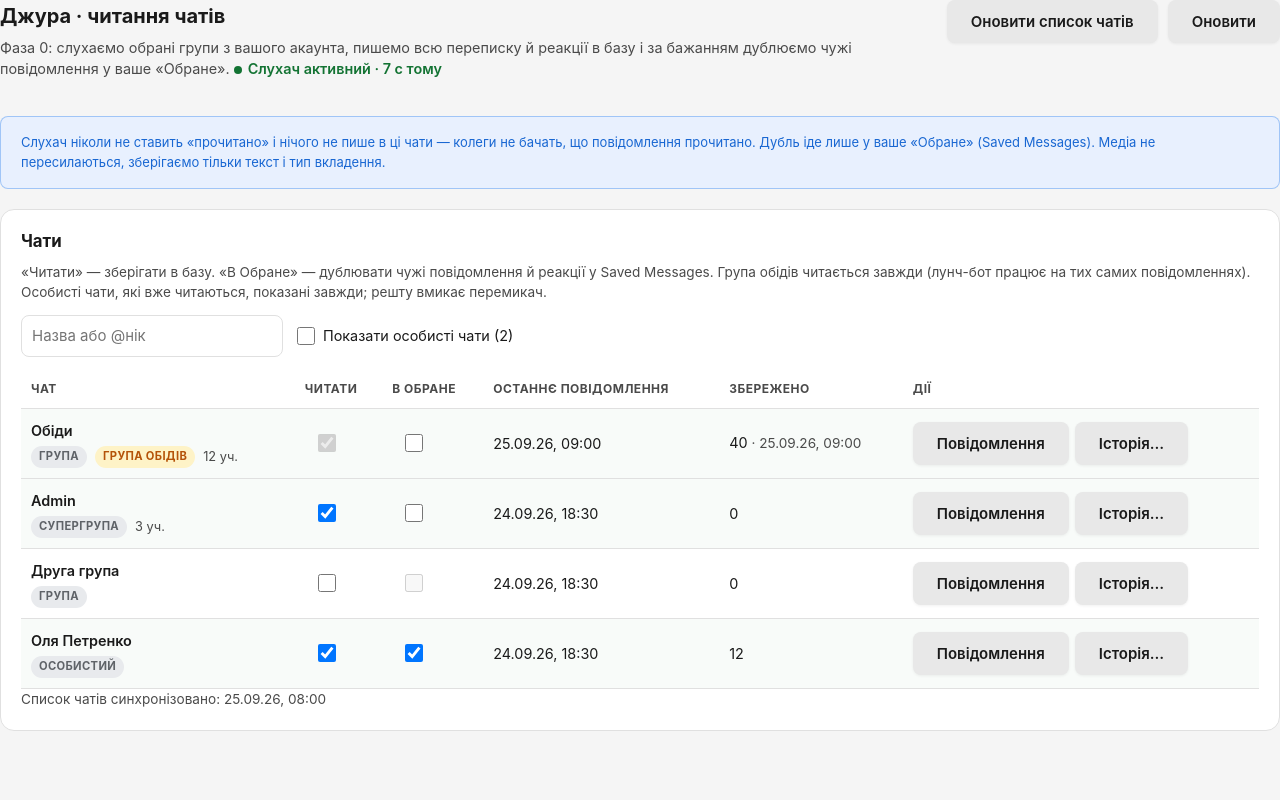
Test: DzhuraTab › довантаження: POST задачі, прогрес через polling, «Готово»
The width and height of the screenshot is (1280, 800).
Expected: the text "Admin" is shown, [31,492,76,509]
Click the button "Історія…" in the row of "Admin" at (1131, 513), box [1075,492,1188,535]
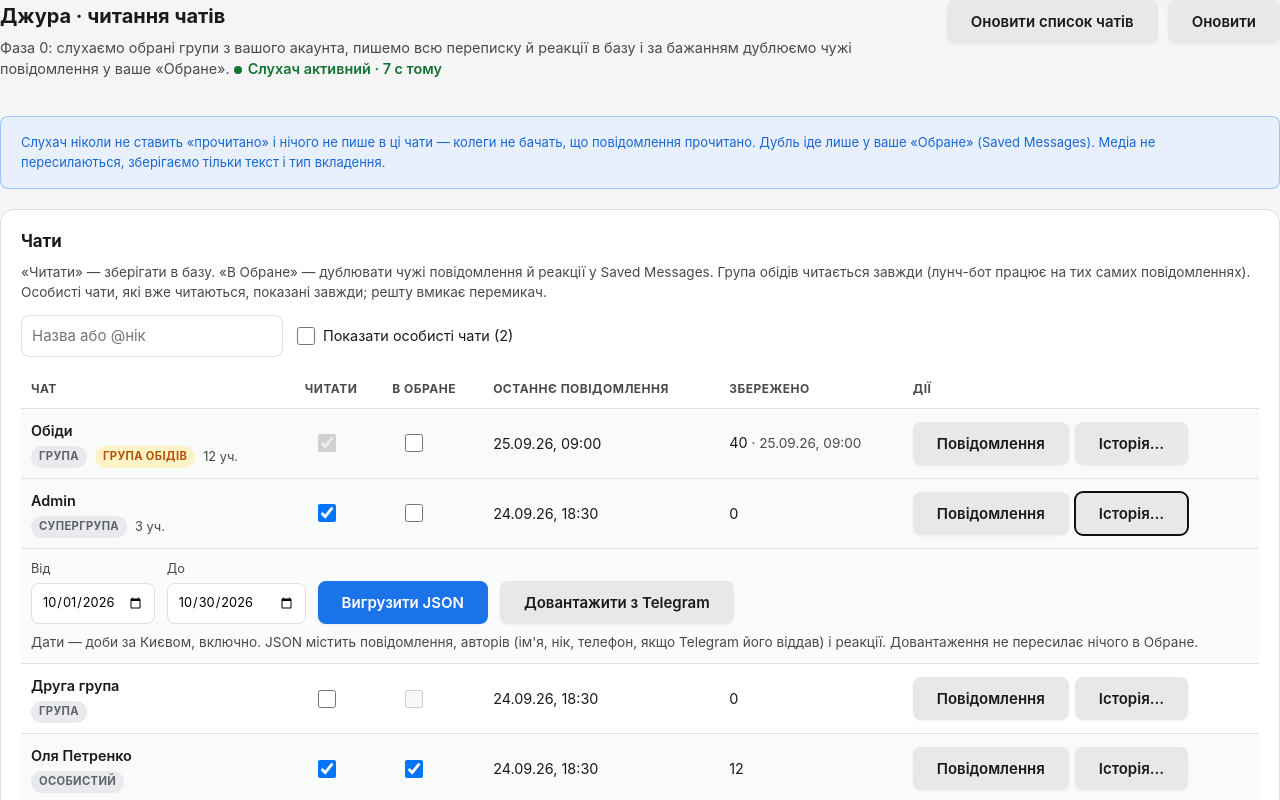
Type "2026-09-01" into the date field with id "dzhura-from-2" at (93, 603), box [31,583,155,624]
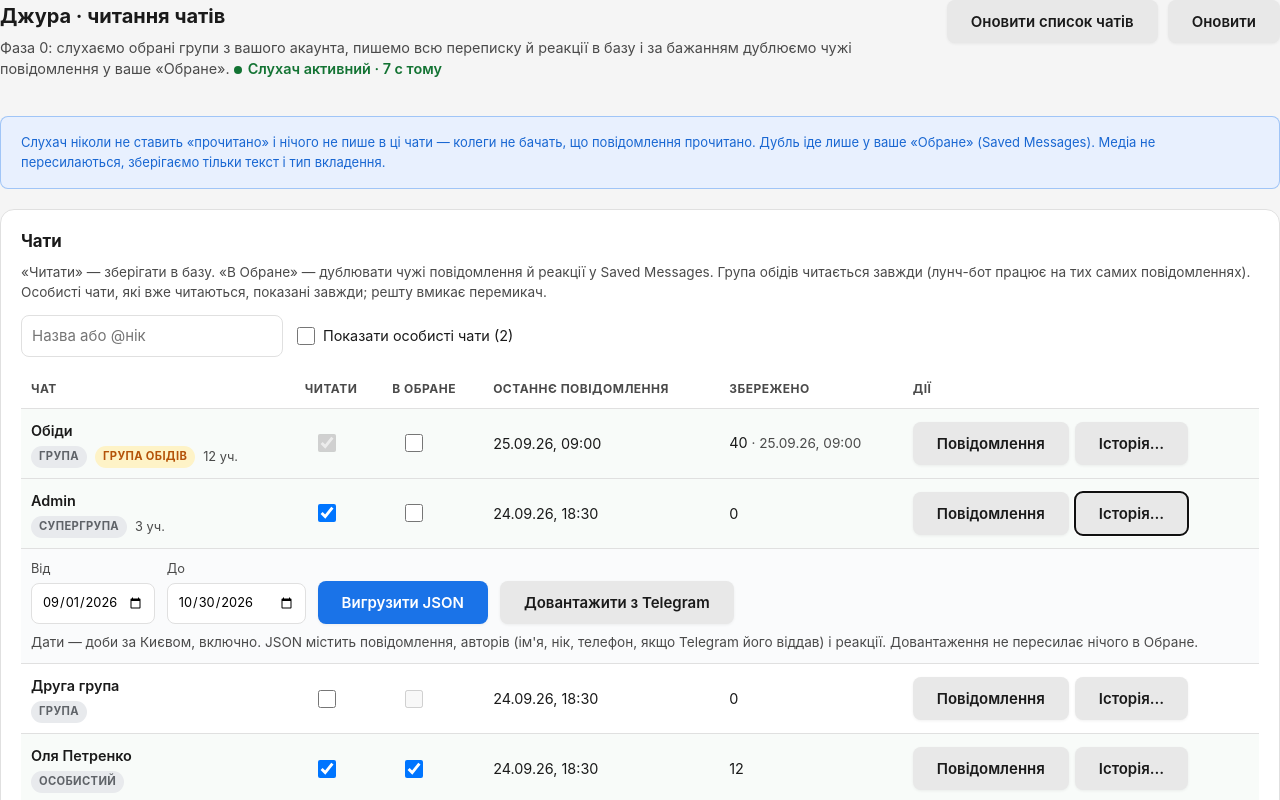
Type "2026-09-07" into the date field with id "dzhura-to-2" at (236, 603), box [167,583,306,624]
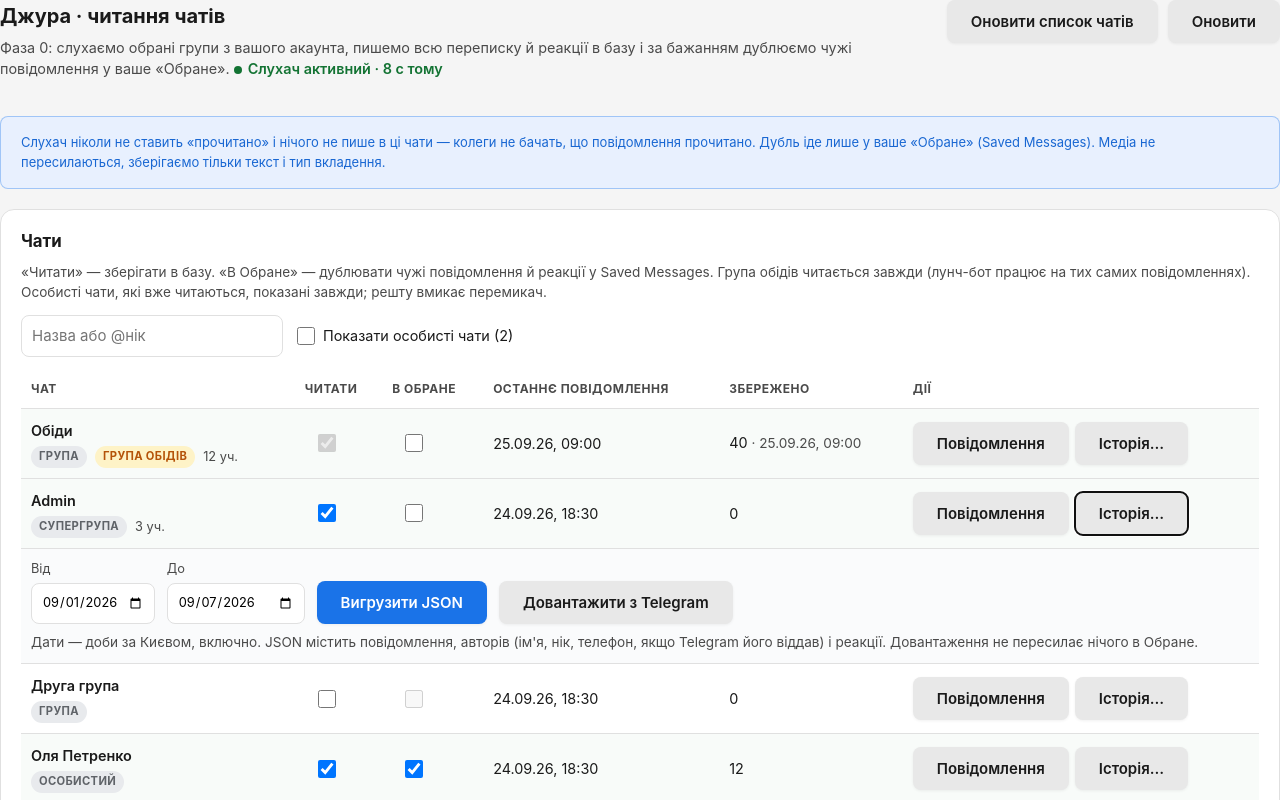
Click the button "Довантажити з Telegram" at (616, 602), box [499,581,733,624]
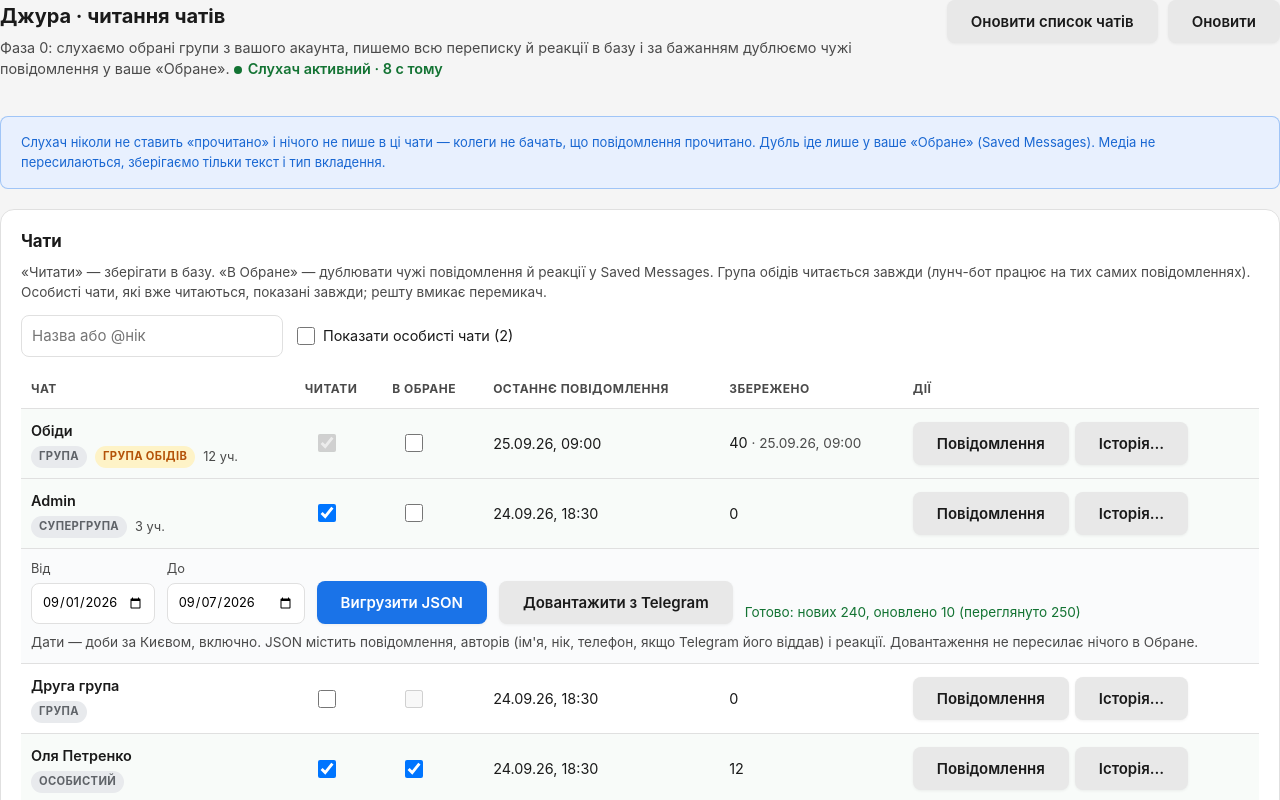
Result: the button "Довантажити з Telegram" is enabled at [499,581,733,624]
Result: the text "Готово: нових 240, оновлено 10 (переглянуто 250)" is shown at [745,602,1081,624]
